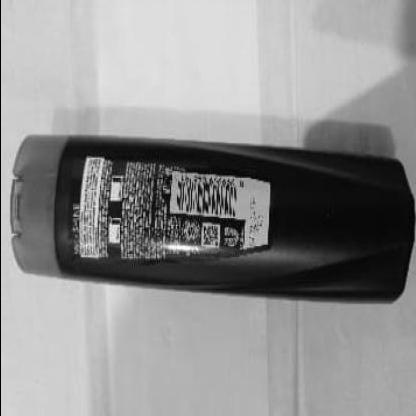objects: (3, 129, 416, 303)
